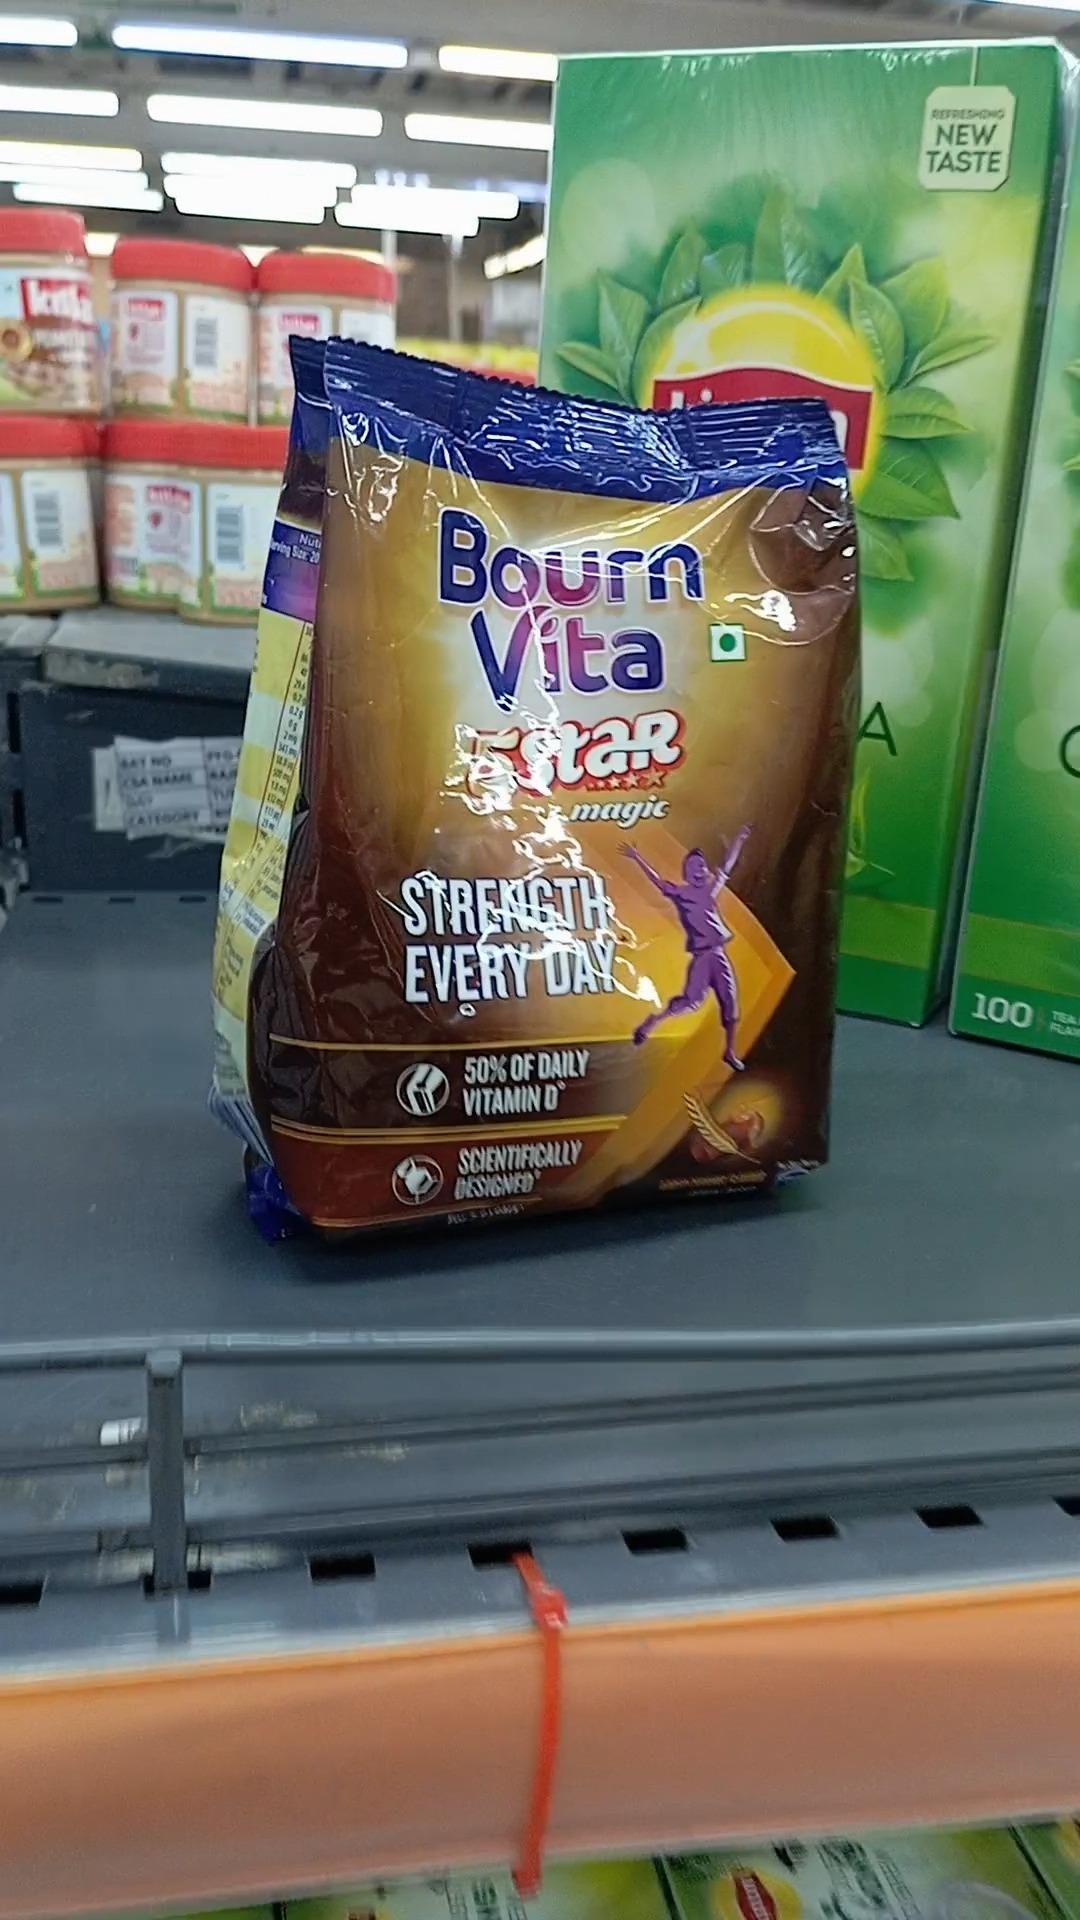BOURN_VITA_FIVE_STAR_MAGIC_500_G_POUCH: (314, 360, 837, 1238)
